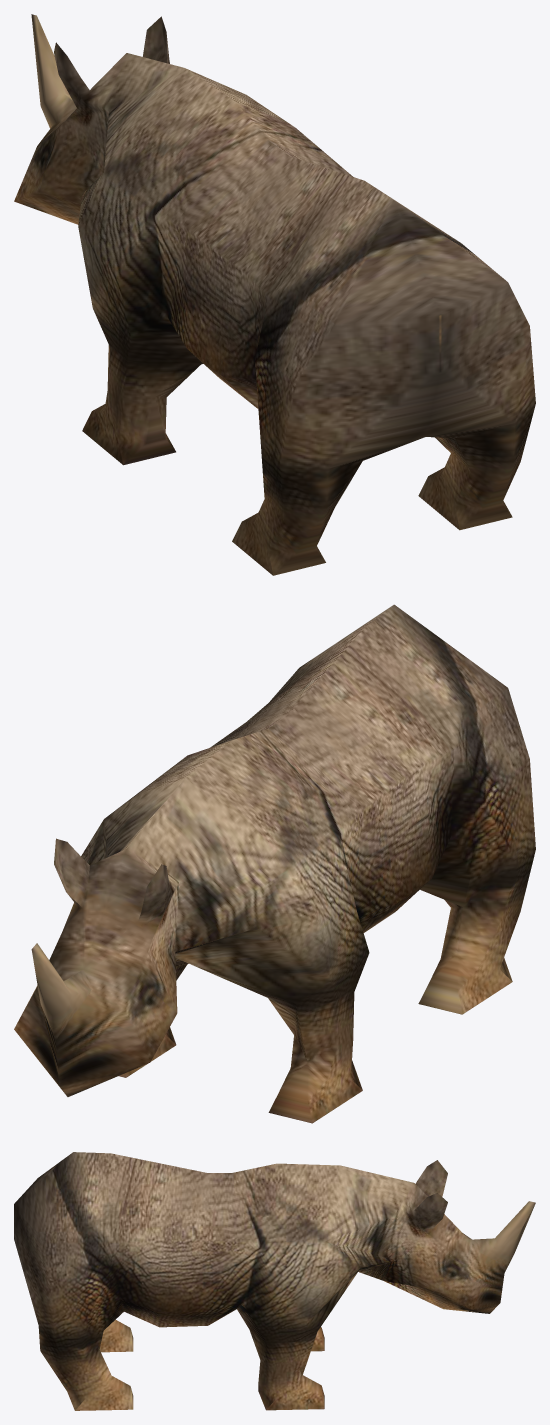
File: Orge.FBX
The picture shows the model from 3 angles, top to bottom: view 1: azimuth 30°, elevation 25°; view 2: azimuth 150°, elevation 25°; view 3: azimuth 270°, elevation 25°; orthographic projection. The views are drawn at different scales.
Parts seen in each view (by area): view 1: object; view 2: object; view 3: object.
Boxes of the visible parts, bbox=[...] form: object: bbox=[14, 14, 535, 575]; object: bbox=[14, 604, 535, 1123]; object: bbox=[14, 1152, 535, 1410].
Size of the model in its own units: 1.42 by 1.84 by 3.93.
Materials: 1 (1 with a texture image).
